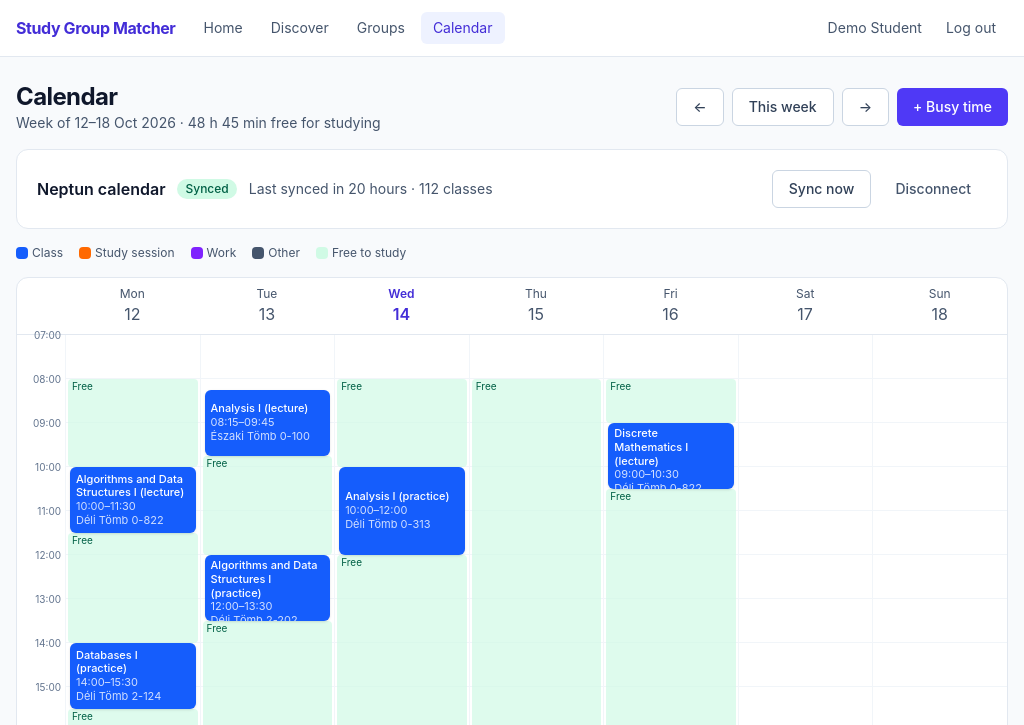
CalendarPage › moves between weeks and keeps local times across the DST change
Expected: the text "Week of 12–18 Oct 2026 · 48 h 45 min free for studying" is shown, x1=16 y1=113 x2=381 y2=133
Click the button named "Next week": [865, 107] box x1=842 y1=88 x2=889 y2=126
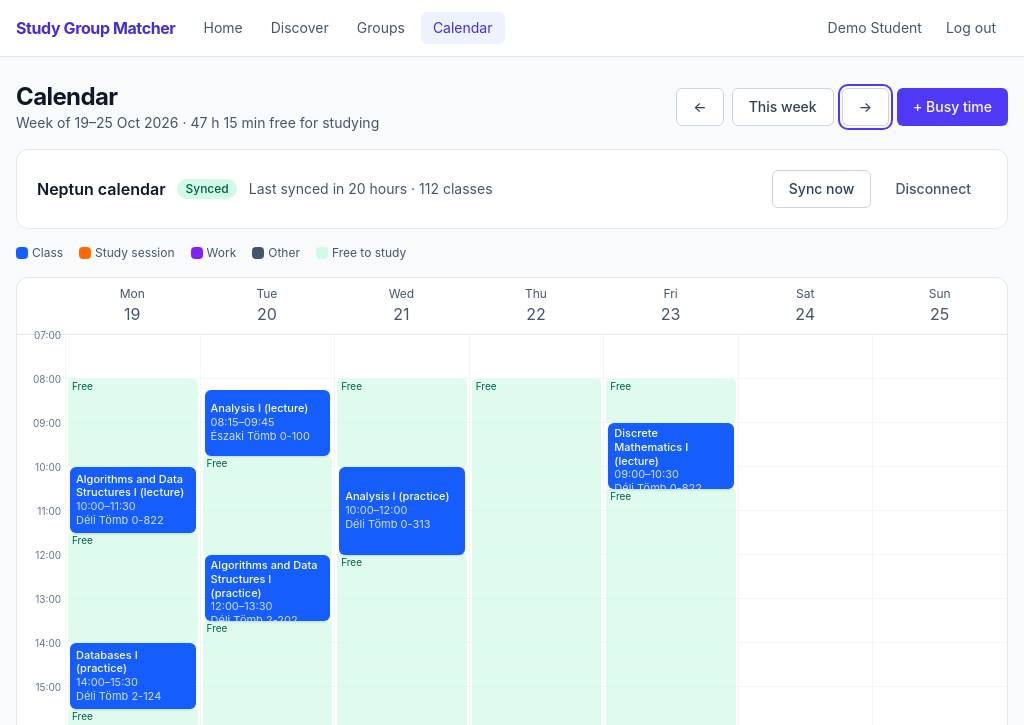
Click the button named "Next week": [865, 107] box x1=842 y1=88 x2=889 y2=126
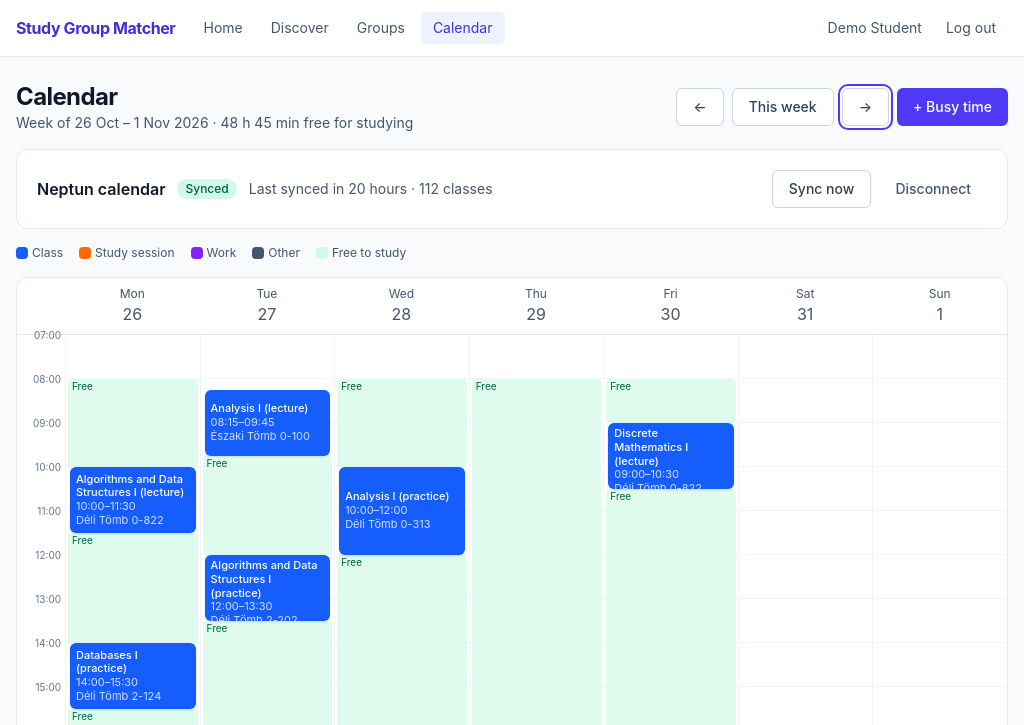
Expected: the button with aria-label "Algorithms and Data Structures I (lecture), 10:00–11:30" is shown, x1=70 y1=467 x2=196 y2=533
Now the text "Week of 26 Oct – 1 Nov 2026 · 48 h 45 min free for studying" is shown, box x1=16 y1=113 x2=413 y2=133
Click the button "This week": [783, 107] box x1=732 y1=88 x2=834 y2=126
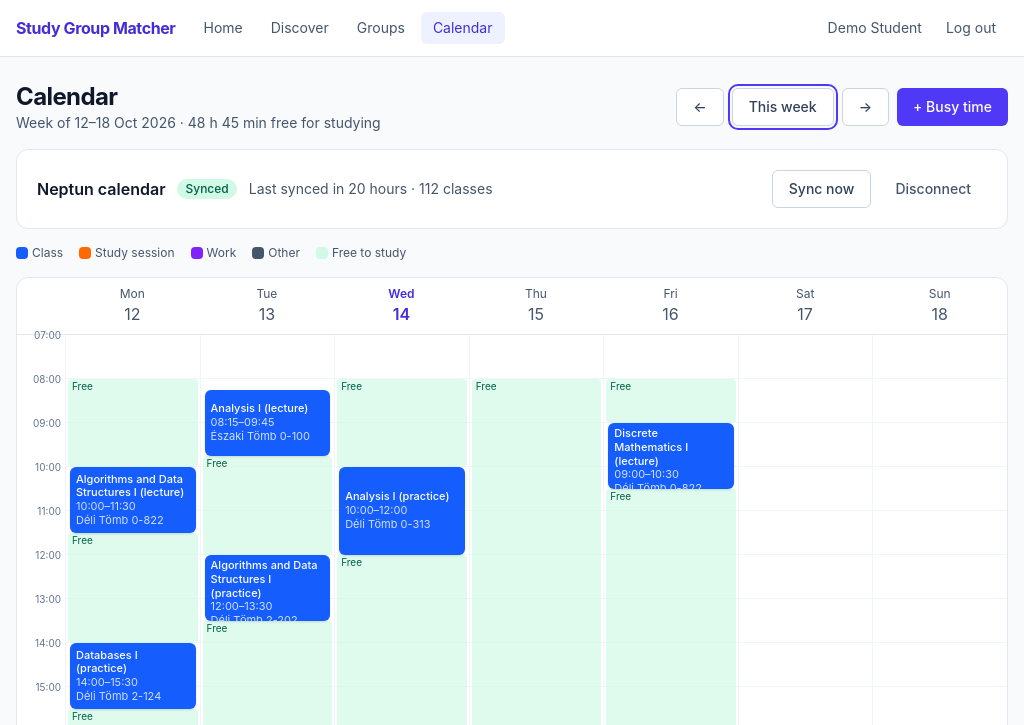
Now the text "Week of 12–18 Oct 2026 · 48 h 45 min free for studying" is shown, box x1=16 y1=113 x2=381 y2=133
